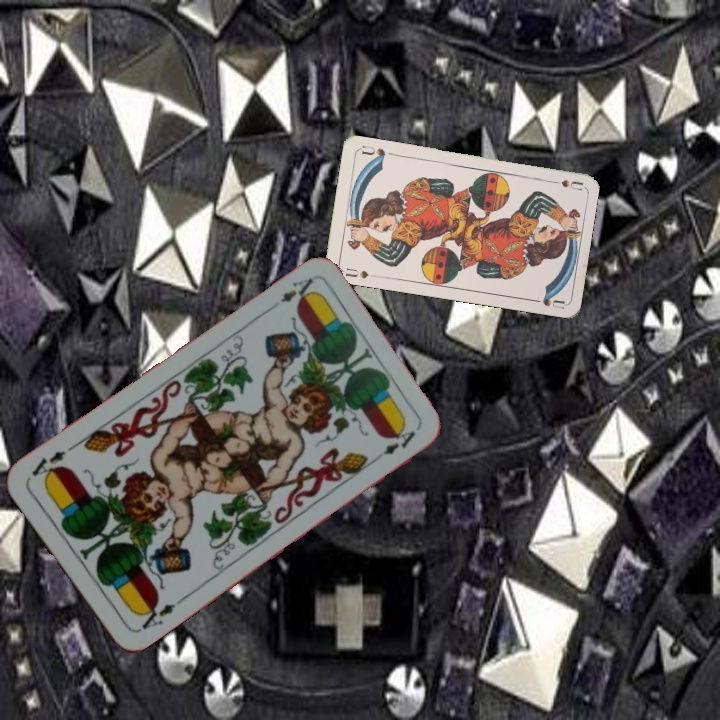EA: (264, 273, 318, 314), (133, 597, 178, 635)
SU: (543, 176, 584, 193), (338, 264, 378, 281)
